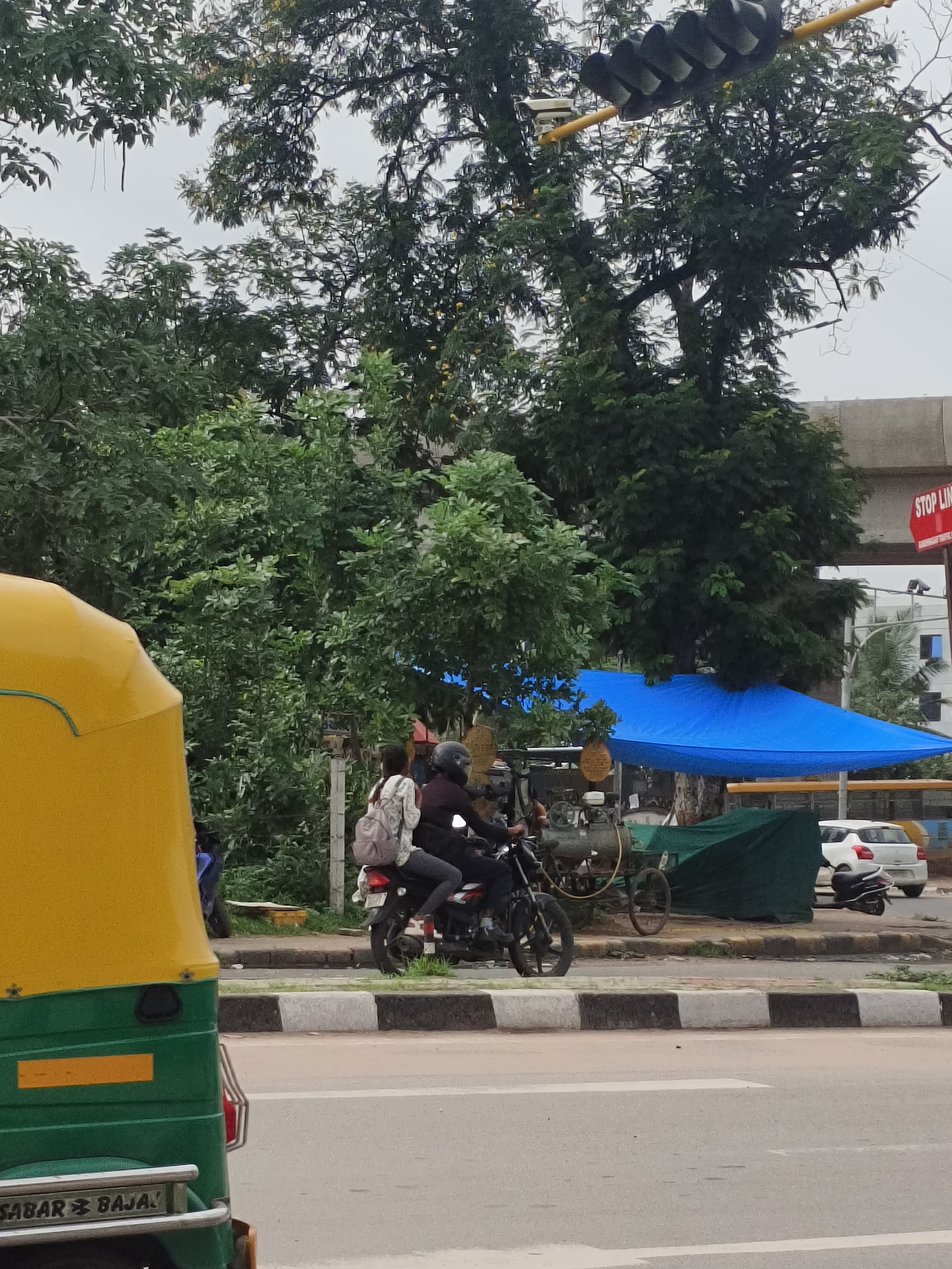BikeWithRider: (342, 733, 582, 986)
Helmet: (426, 737, 478, 788)
NoHelmet: (375, 740, 416, 783)
